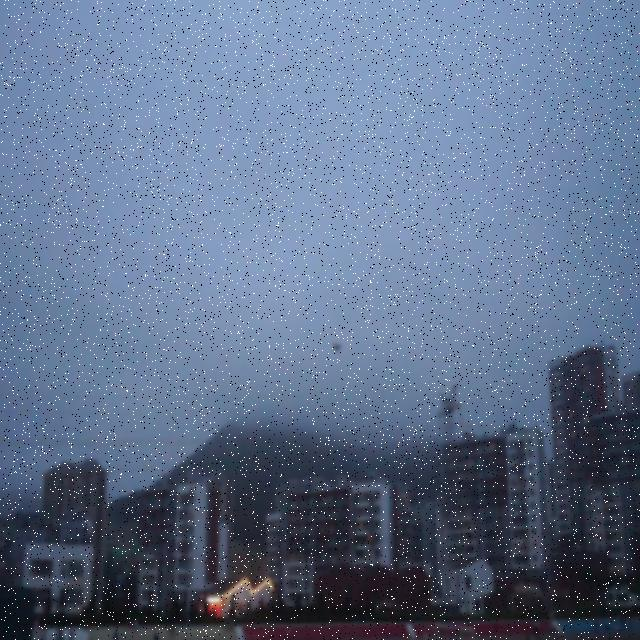UAV: (332, 342, 343, 354)
